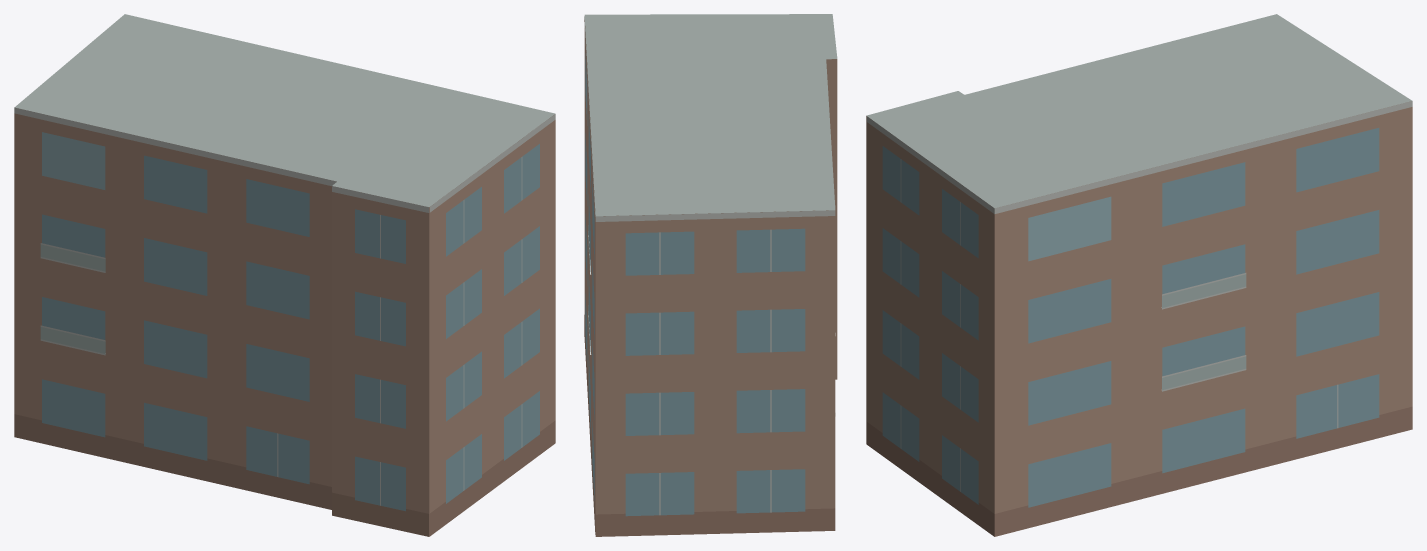
File: survey-upis-32822824.glb
The picture shows the model from 3 angles, left to right: view 1: azimuth 30°, elevation 25°; view 2: azimuth 150°, elevation 25°; view 3: azimuth 270°, elevation 25°; orthographic projection. The views are drawn at different scales.
Parts seen in each view (by area): view 1: survey-upis-32822824.tmp; view 2: survey-upis-32822824.tmp; view 3: survey-upis-32822824.tmp.
Boxes of the visible parts, <box> form: survey-upis-32822824.tmp: <box>14,14,555,536</box>; survey-upis-32822824.tmp: <box>584,14,837,536</box>; survey-upis-32822824.tmp: <box>866,14,1412,536</box>.
Size of the model in its own units: 17.26 by 13.6 by 20.5.
